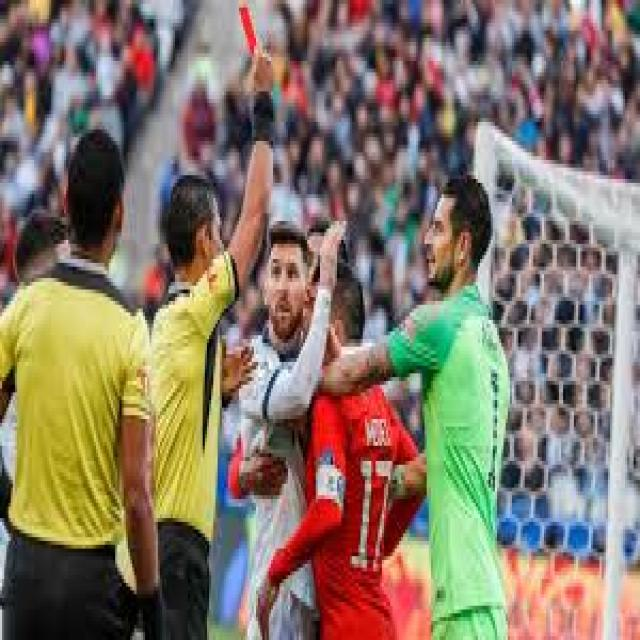red-card: (233, 0, 279, 161)
